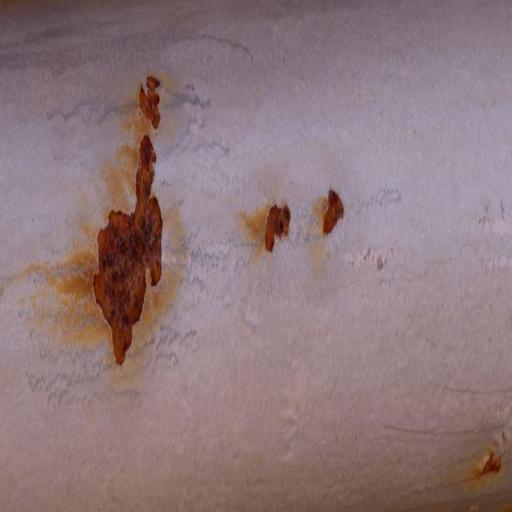segmentation: (27, 142, 162, 362), (244, 207, 289, 253), (316, 191, 344, 237), (140, 74, 162, 130), (479, 450, 502, 474)
